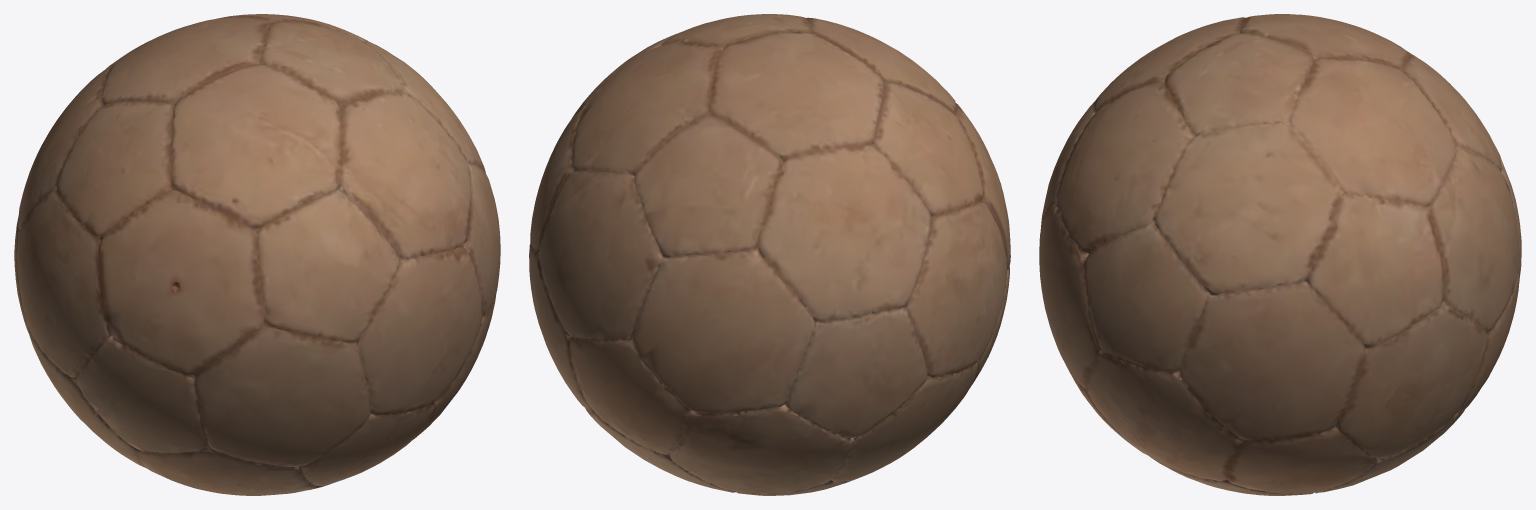
File: dirty_football.glb
3 views of the same model, side by side, from view 1: azimuth 30°, elevation 25°; view 2: azimuth 150°, elevation 25°; view 3: azimuth 270°, elevation 25° (orthographic).
Visible parts, largest first — view 1: dirty_football; view 2: dirty_football; view 3: dirty_football.
Part boxes in pixels (<box>): dirty_football: <box>14,14,500,495</box>; dirty_football: <box>529,14,1010,495</box>; dirty_football: <box>1039,14,1521,495</box>.
Bounding box in the file's own units: 0.2213 × 0.22 × 0.22.
1 material, 1 textured.
